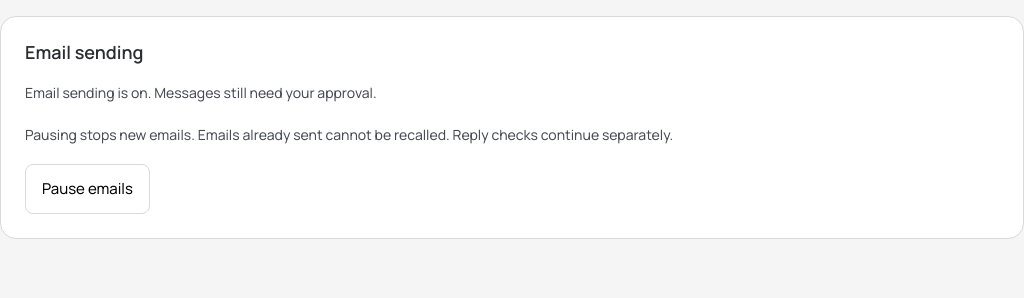
Test: uncertain write persists a no-retry gate and reconciles only after a newer snapshot
The image size is (1024, 298).
Click the button "Pause emails" at (87, 189), box [25,164,150,214]
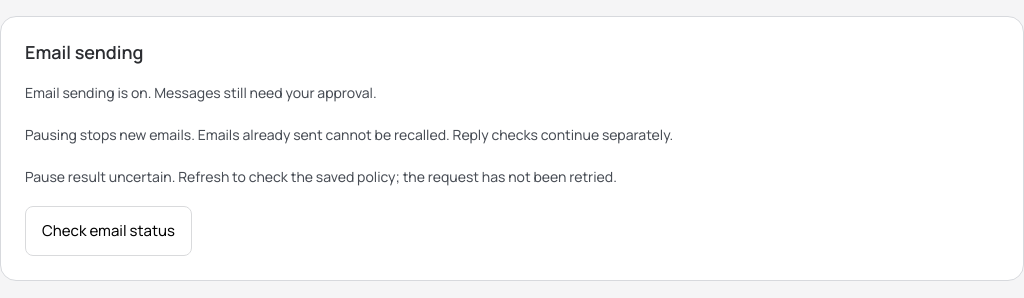
Expected: the text "Pause result uncertain" is shown, [25,167,617,186]
Click the button "Check email status" at (108, 231), box [25,206,192,256]
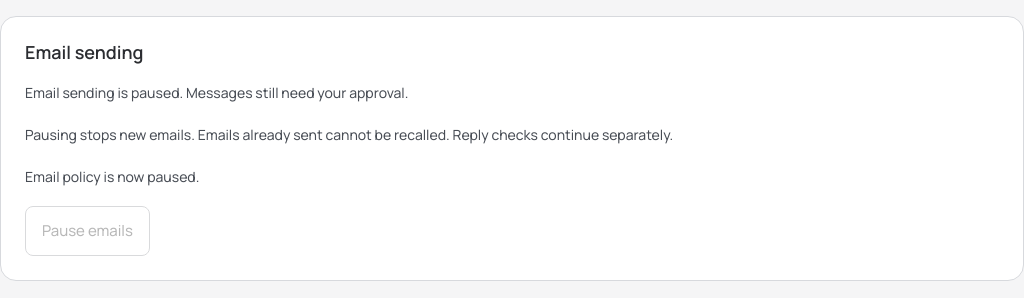
Expected: the text "Email policy is now paused" is shown, [25,167,199,186]
